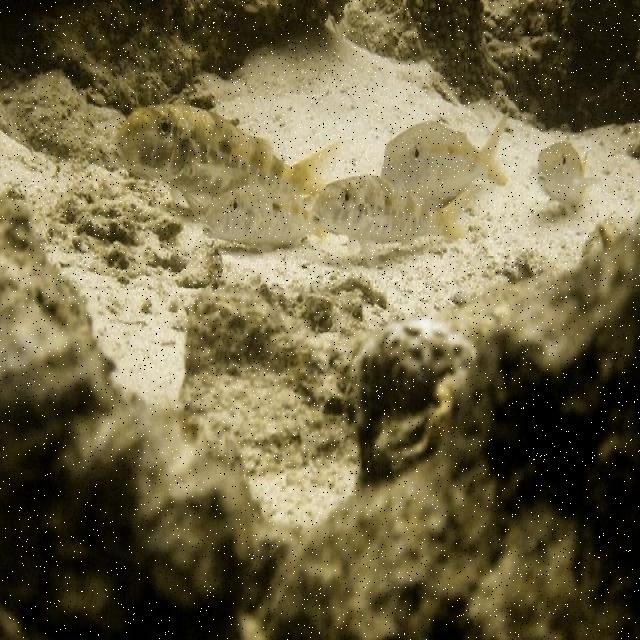fish: (106, 103, 343, 218), (380, 109, 510, 204), (312, 174, 480, 243), (203, 183, 327, 250), (534, 142, 599, 203)
